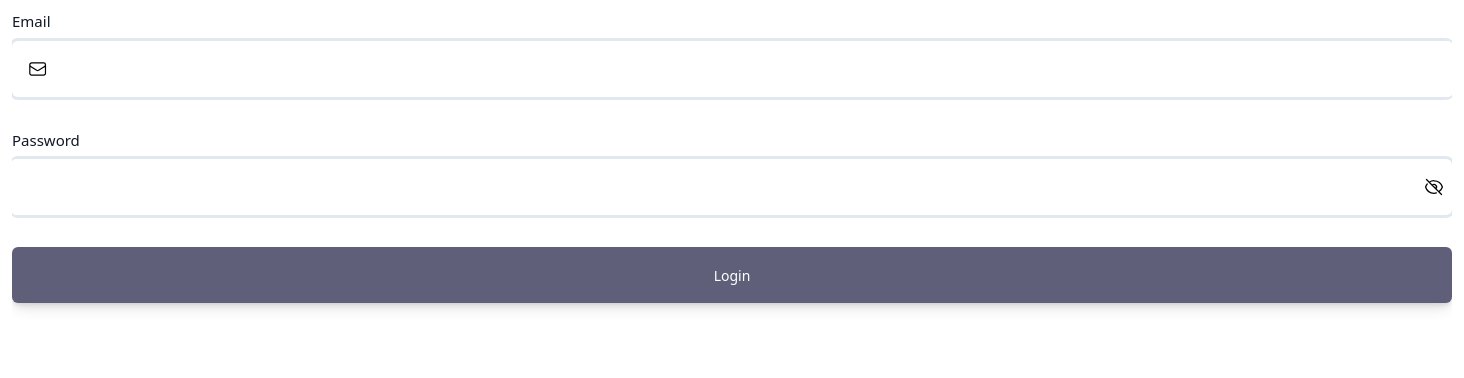
Test: LoginForm Component › validates form inputs and shows error messages
What coordinates should you click on to do the following:
click the button "Login"
I would click on:
 (732, 275)
Its box is [12,247,1452,303].
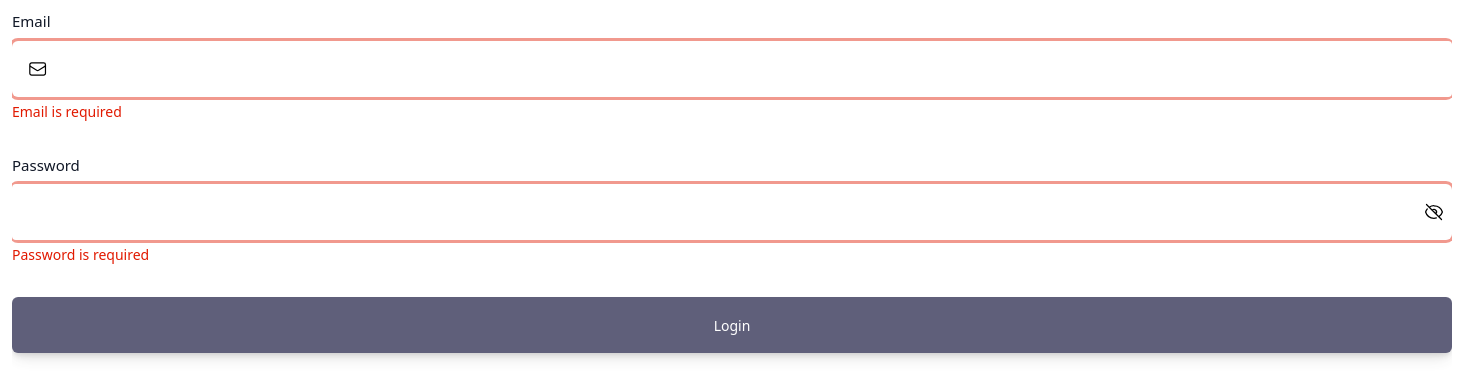
Expected: the text "Email is required" is shown, [12,102,122,120]
